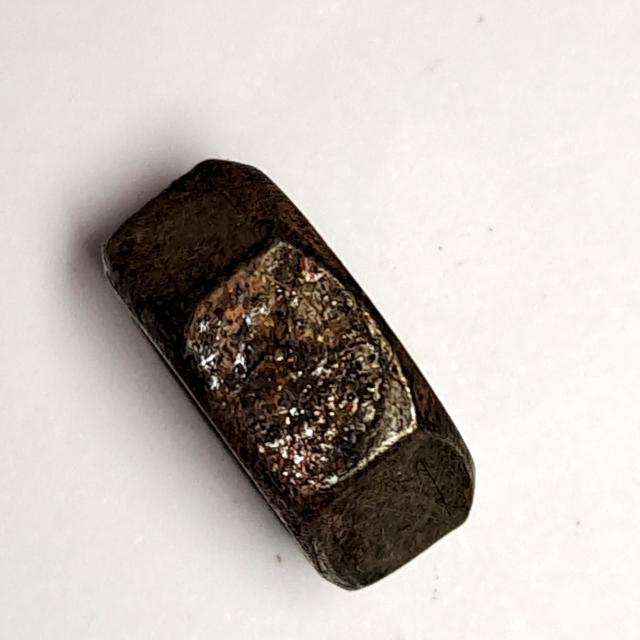Side_Rust: (83, 145, 500, 606)
